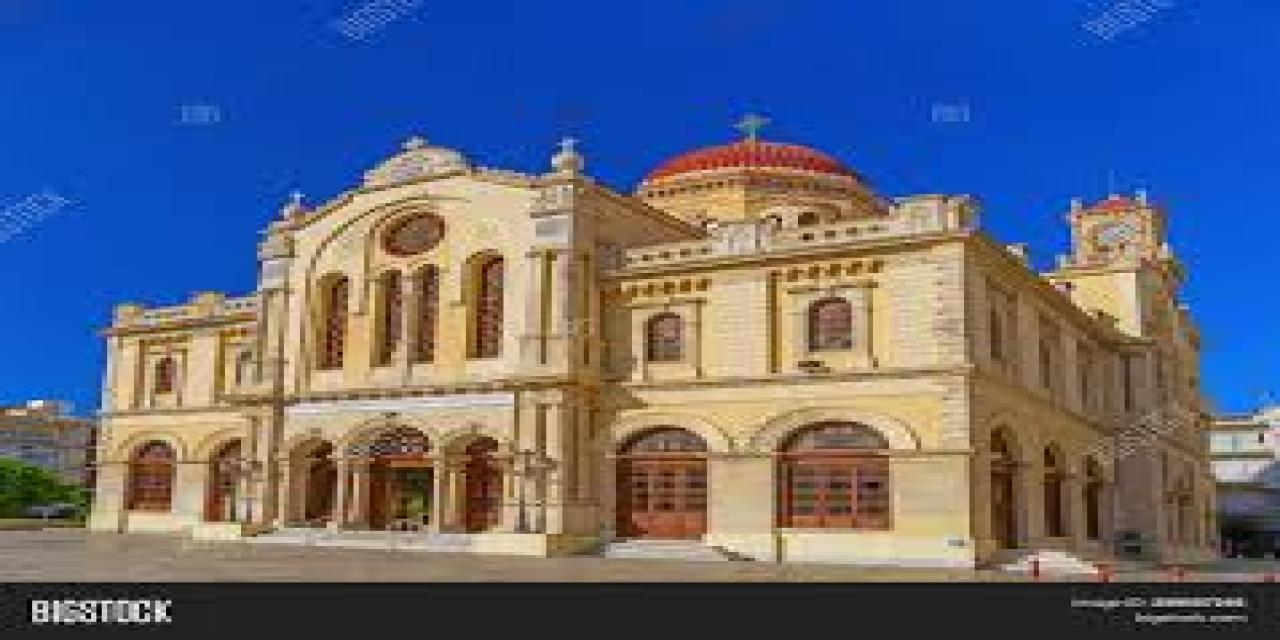Agios Minas: (98, 84, 1244, 567)
